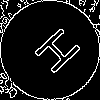H: (25, 25, 83, 83)
